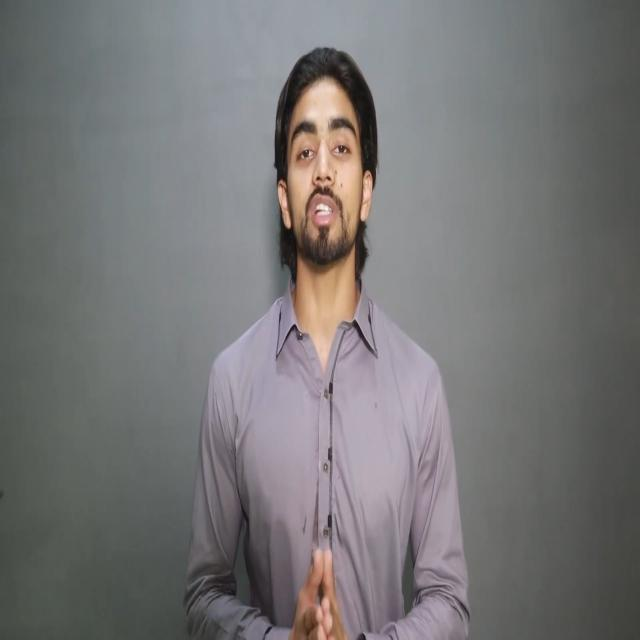dress: (182, 262, 471, 640)
